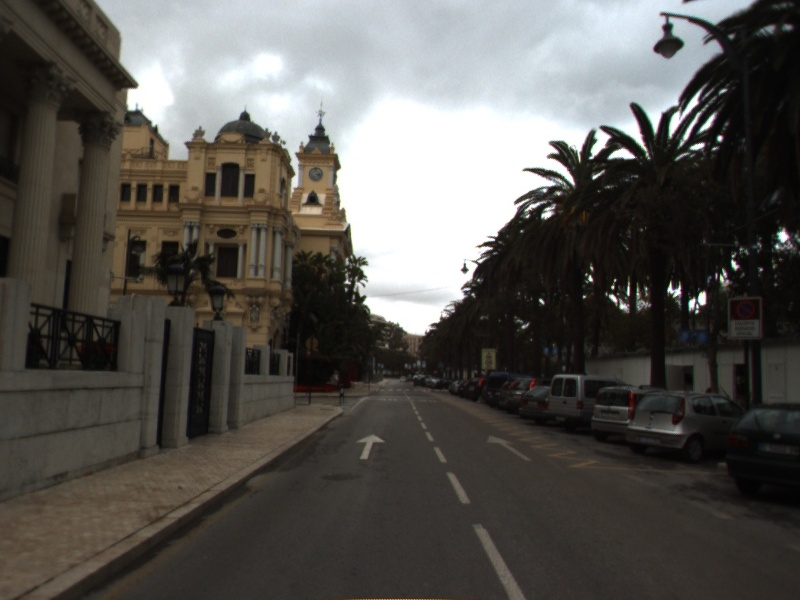STRAIGHT: (485, 433, 535, 463), (354, 432, 388, 461)
